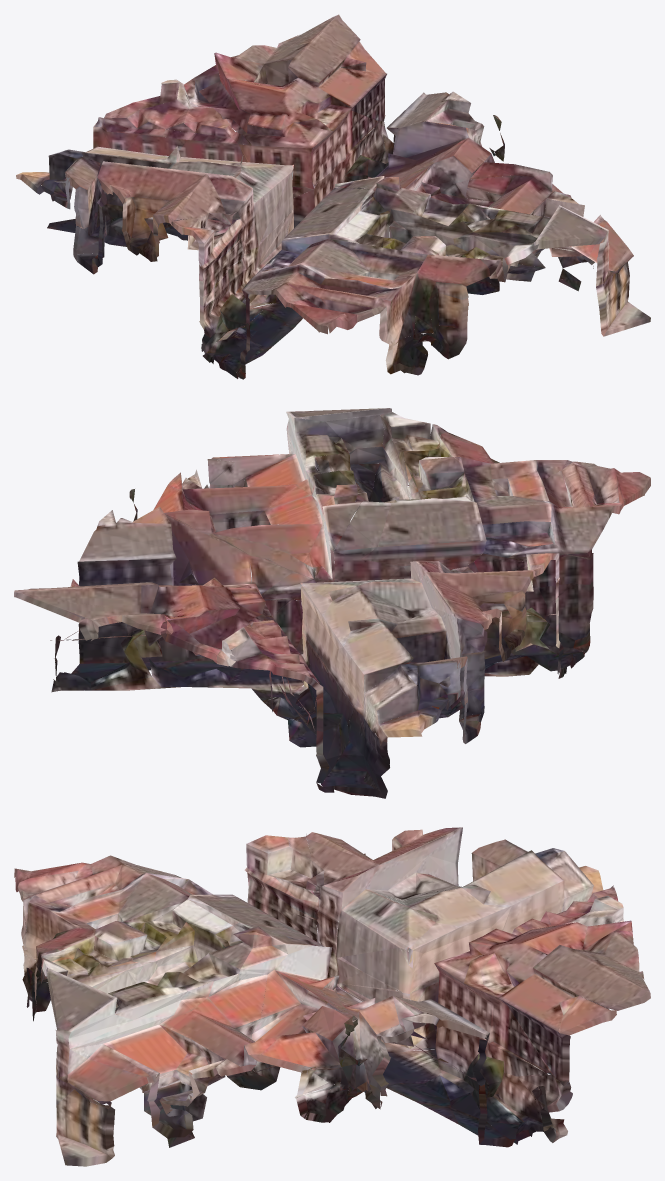
The picture shows the model from 3 angles, top to bottom: view 1: azimuth 30°, elevation 25°; view 2: azimuth 150°, elevation 25°; view 3: azimuth 270°, elevation 25°; orthographic projection. The views are drawn at different scales.
Visible parts, largest first — view 1: Mesh_0; view 2: Mesh_0; view 3: Mesh_0.
Part boxes in pixels (<box>): Mesh_0: <box>16,14,650,379</box>; Mesh_0: <box>14,408,650,798</box>; Mesh_0: <box>14,827,650,1166</box>.
Bounding box in the file's own units: 66.85 × 21.98 × 82.49.
Materials: 2 (2 with a texture image).
